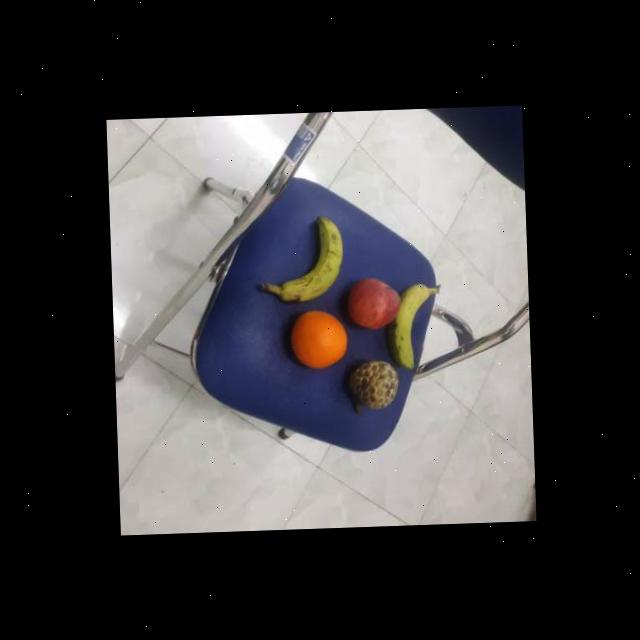Sakya fruit: (346, 356, 400, 411)
apple: (343, 273, 402, 331)
banana: (273, 214, 347, 304), (384, 281, 436, 371)
orange: (288, 308, 349, 371)
